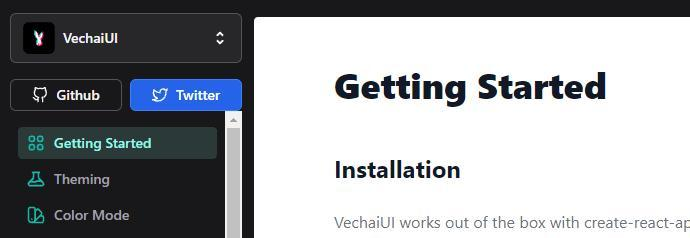button: (131, 81, 243, 112), (10, 80, 123, 110)
dropdown: (11, 13, 244, 64)
icon: (28, 168, 48, 193), (28, 134, 49, 156), (27, 207, 48, 227)
label: (55, 135, 158, 155), (54, 208, 140, 226), (54, 173, 115, 193)
